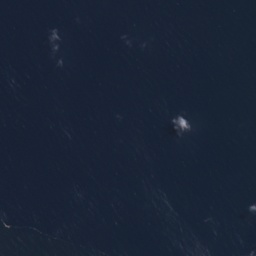Marine Debris: (0, 219, 12, 230)
